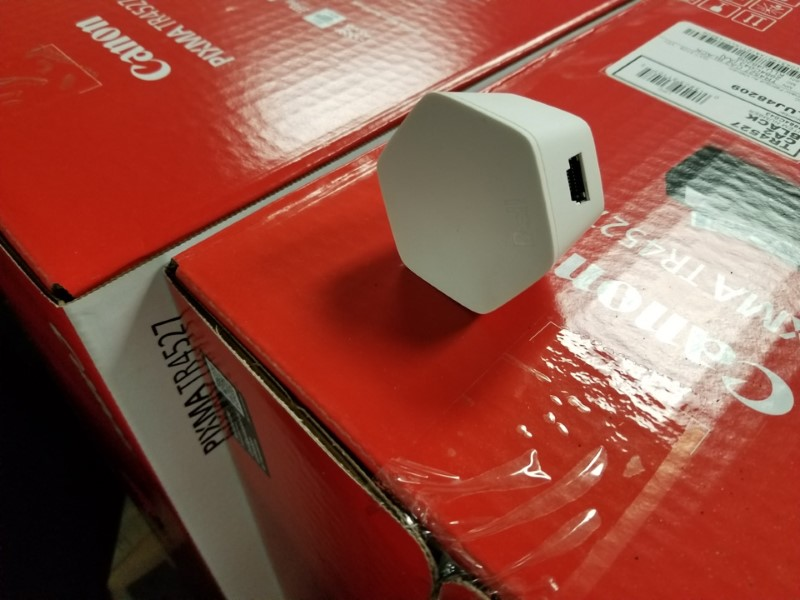pod: (372, 87, 611, 324)
